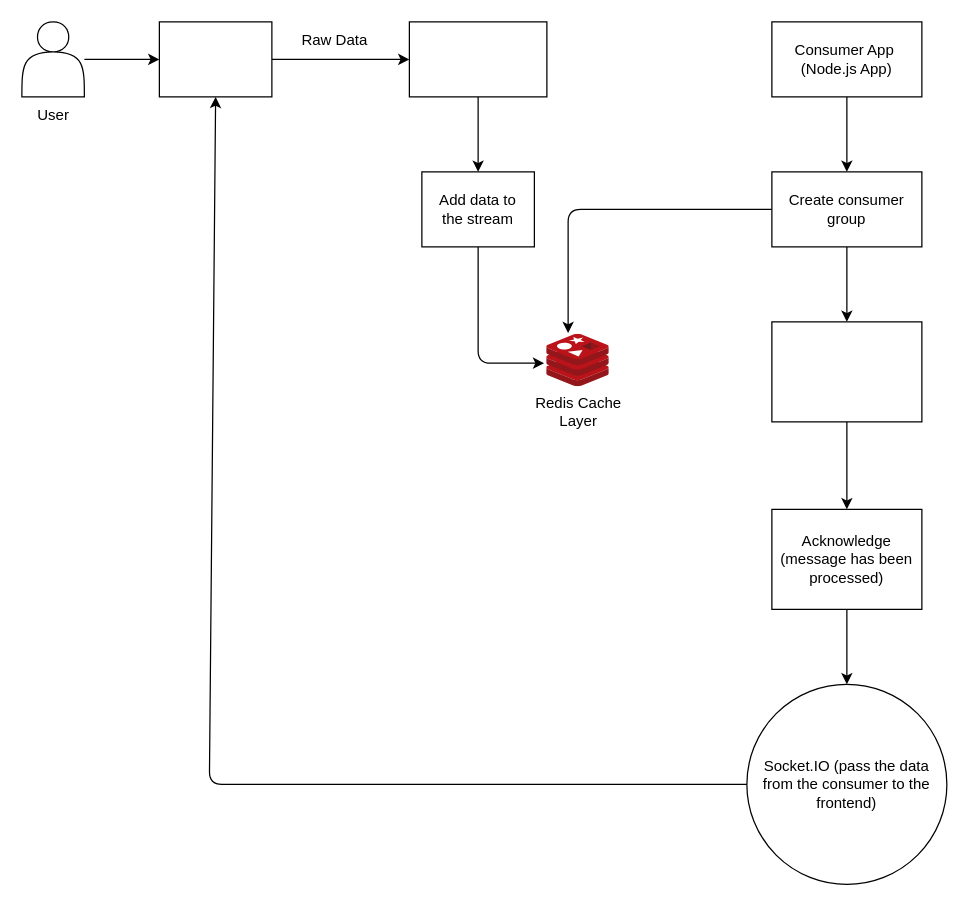
Some shapes in this 969 by 906 pixel diagram are drawn without their labels. The centre of each missing label's shape, as x and y in pixels:
"Frontend App" belongs at point 215,59.
"Producer App (Node.js App)" belongs at point 477,59.
"Read Consumer group to get the message from the stream" belongs at point 846,371.
